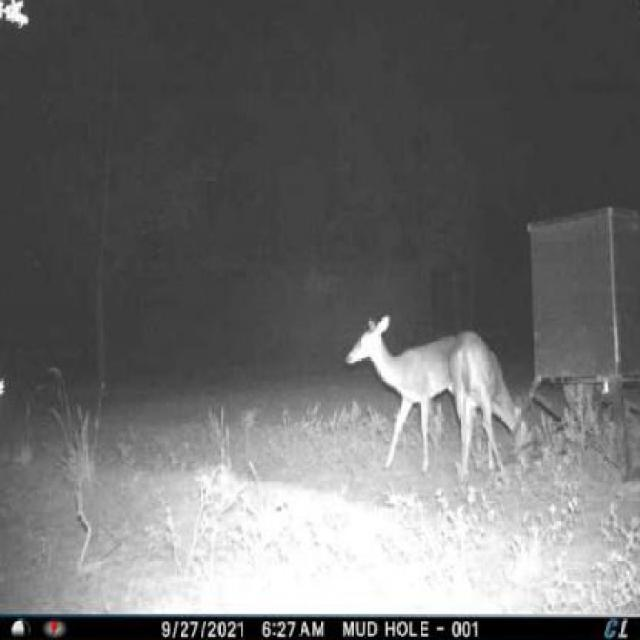Deer: (343, 315, 455, 476), (448, 326, 538, 486)
